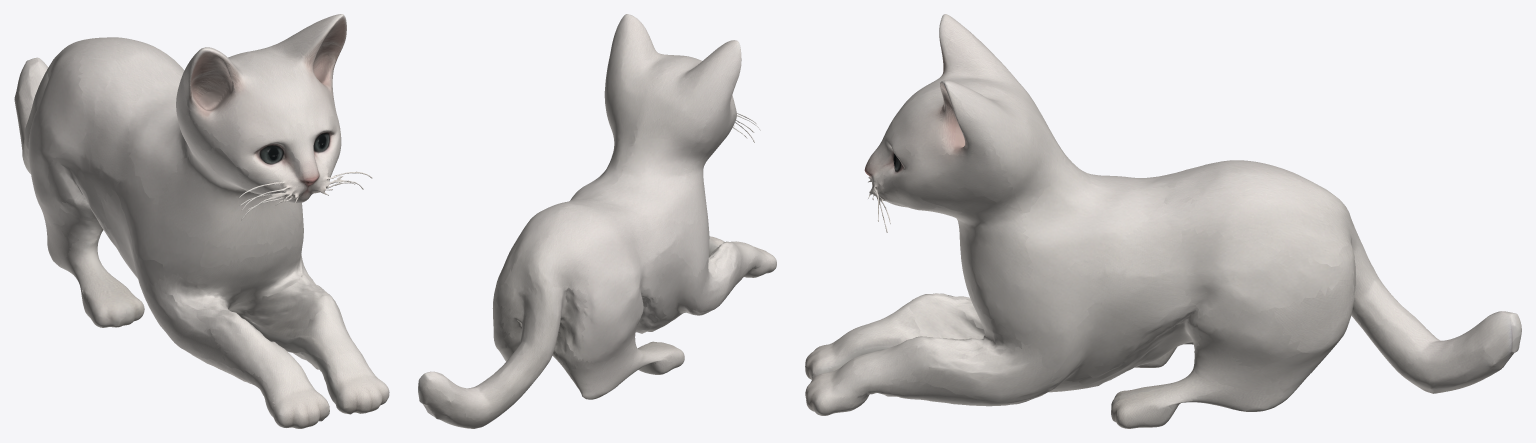
The model's file is snowdrop-lie-volume-static.glb.
3 renders of one model, left to right at view 1: azimuth 30°, elevation 25°; view 2: azimuth 150°, elevation 25°; view 3: azimuth 270°, elevation 25°, orthographic. The views are drawn at different scales.
Visible parts, largest first — view 1: Snowdrop_lie_static; view 2: Snowdrop_lie_static; view 3: Snowdrop_lie_static.
Part boxes in pixels (box(x1,y1,x2,y2)): Snowdrop_lie_static: box(14, 14, 389, 428); Snowdrop_lie_static: box(418, 14, 776, 428); Snowdrop_lie_static: box(805, 14, 1521, 428).
Size of the model in its own units: 0.4074 by 0.7881 by 1.48.
Materials: 1 (1 with a texture image).
